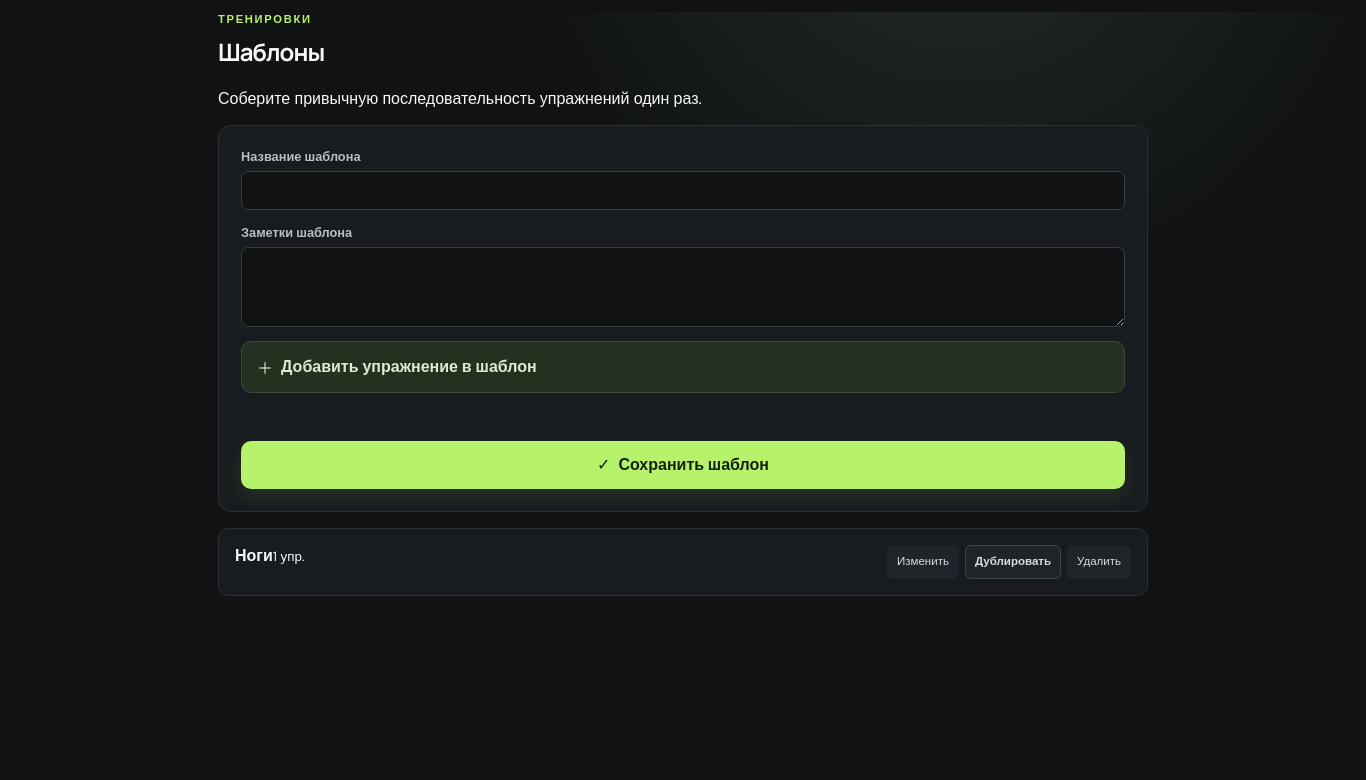
Test: TemplatePage › shows a safe fallback for an exercise missing from the catalogue
This screenshot has width=1366, height=780.
Click the button with aria-label "Редактировать шаблон Ноги".
click(923, 562)  # box [887,545,959,579]
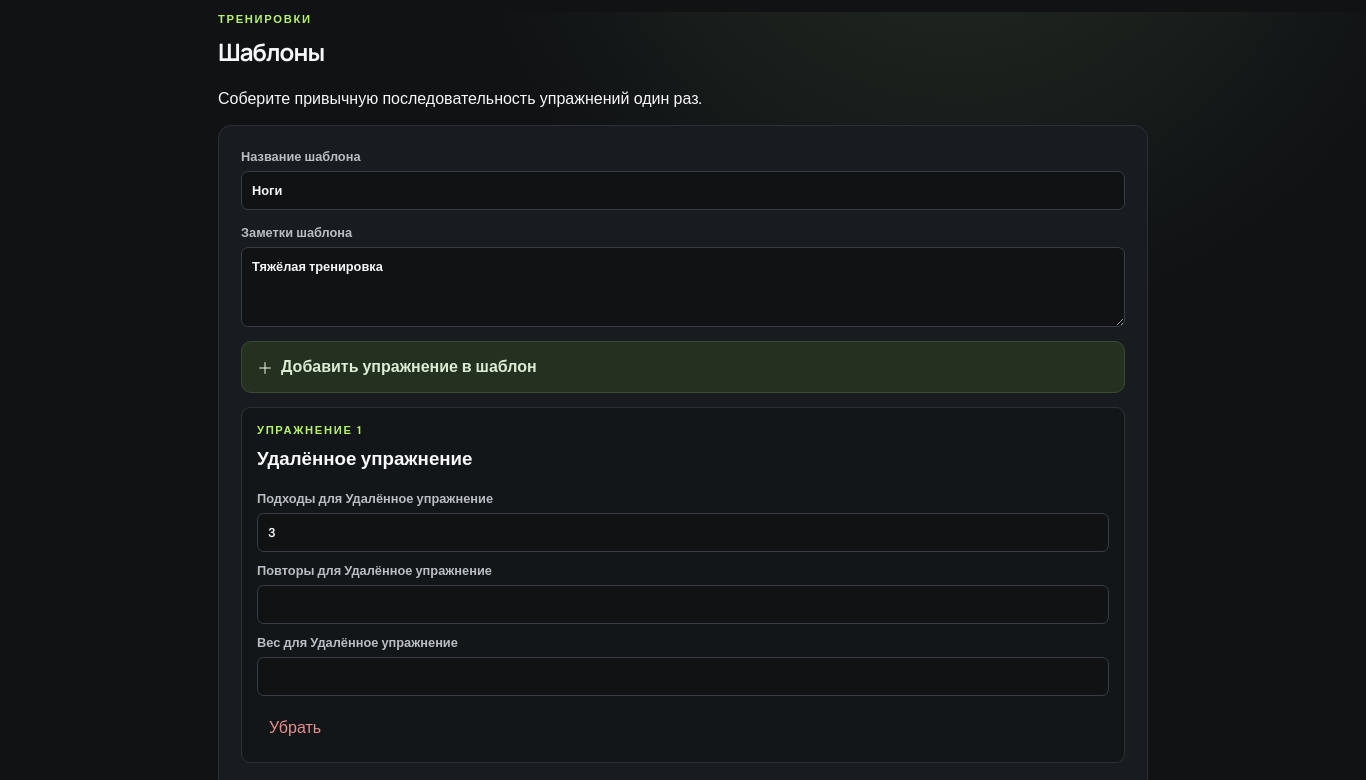
Now the heading "Удалённое упражнение" is shown, box [257,446,472,471]
